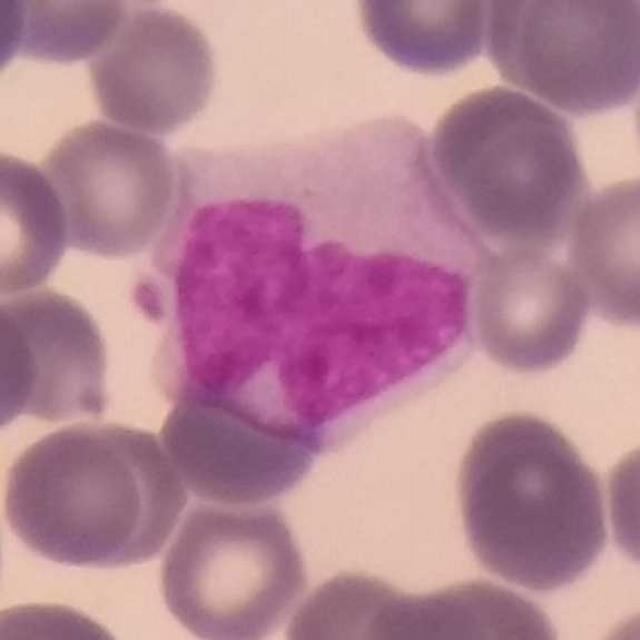Monocyte: (141, 114, 492, 448)
RBC: (448, 405, 616, 597), (424, 81, 589, 243), (154, 367, 330, 510), (152, 487, 312, 640), (1, 416, 153, 573), (31, 116, 182, 262), (80, 2, 224, 139), (0, 279, 118, 432), (487, 0, 640, 116), (466, 242, 594, 378), (372, 573, 569, 640), (562, 168, 640, 331), (278, 563, 441, 640), (347, 0, 501, 80), (0, 142, 73, 299), (2, 0, 132, 68), (0, 287, 40, 451), (0, 593, 137, 640), (599, 431, 640, 584), (0, 0, 32, 90), (579, 596, 640, 640)
